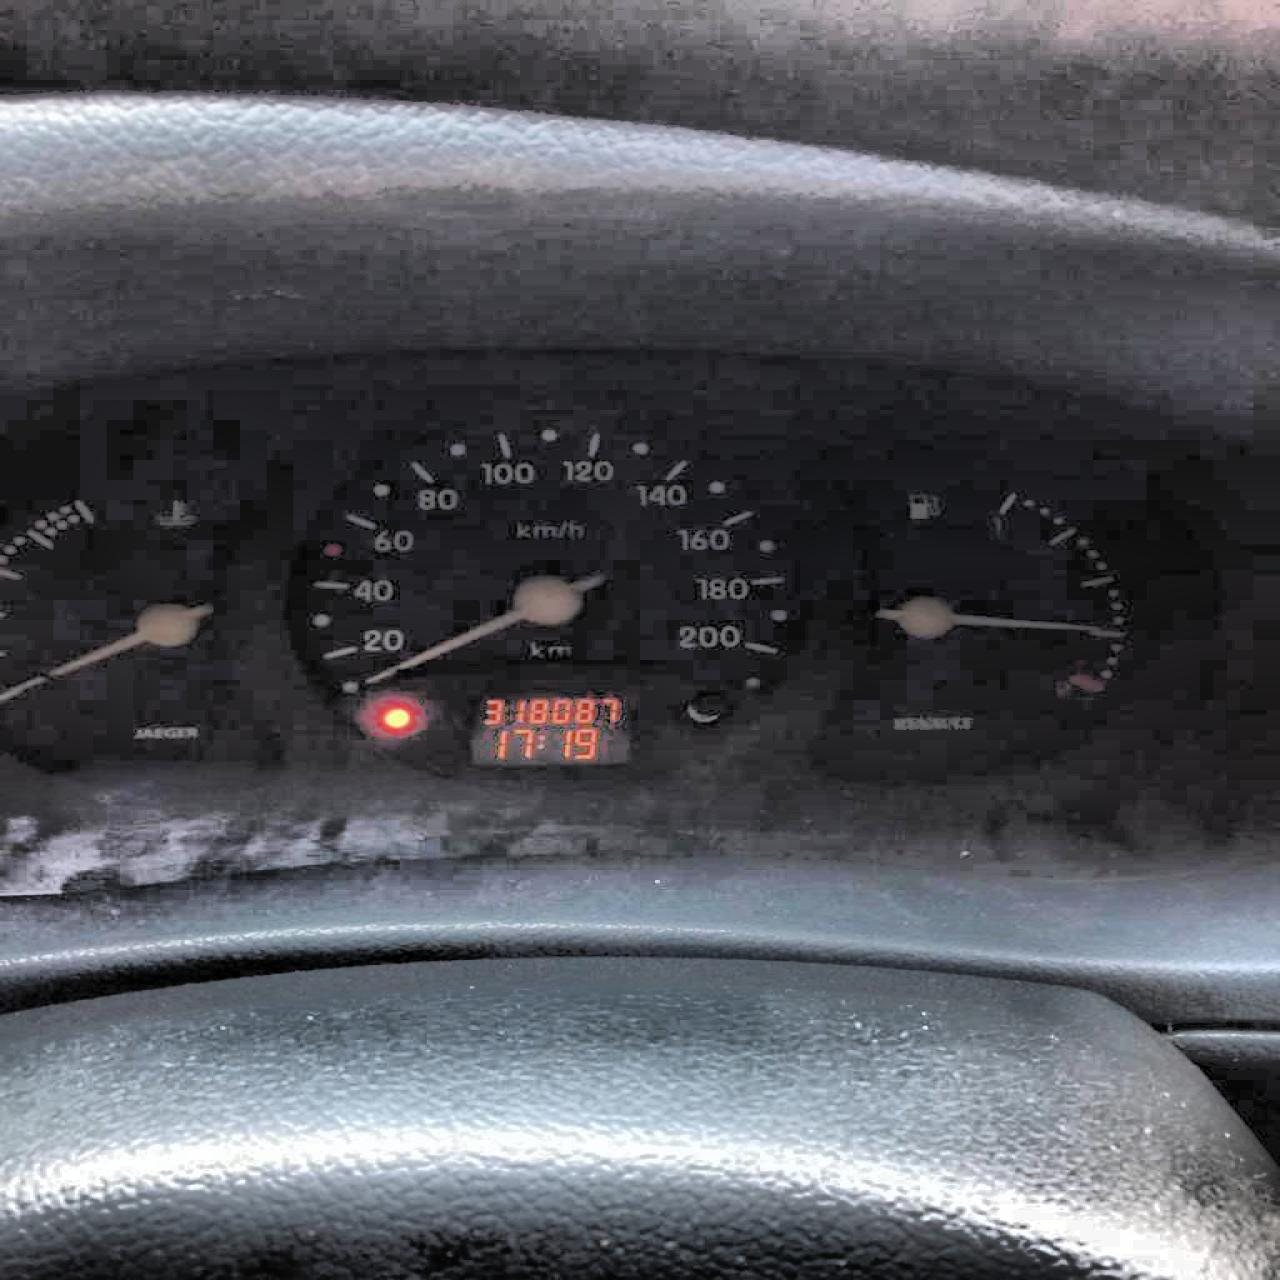0: (550, 697, 568, 723)
1: (496, 728, 506, 758), (561, 728, 570, 757), (515, 699, 523, 723)
3: (485, 697, 502, 723)
7: (511, 728, 531, 758), (600, 696, 618, 722)
8: (529, 696, 546, 723), (574, 697, 593, 722)
9: (573, 726, 597, 760)
X: (536, 731, 546, 750)
odometer: (467, 688, 628, 762)
